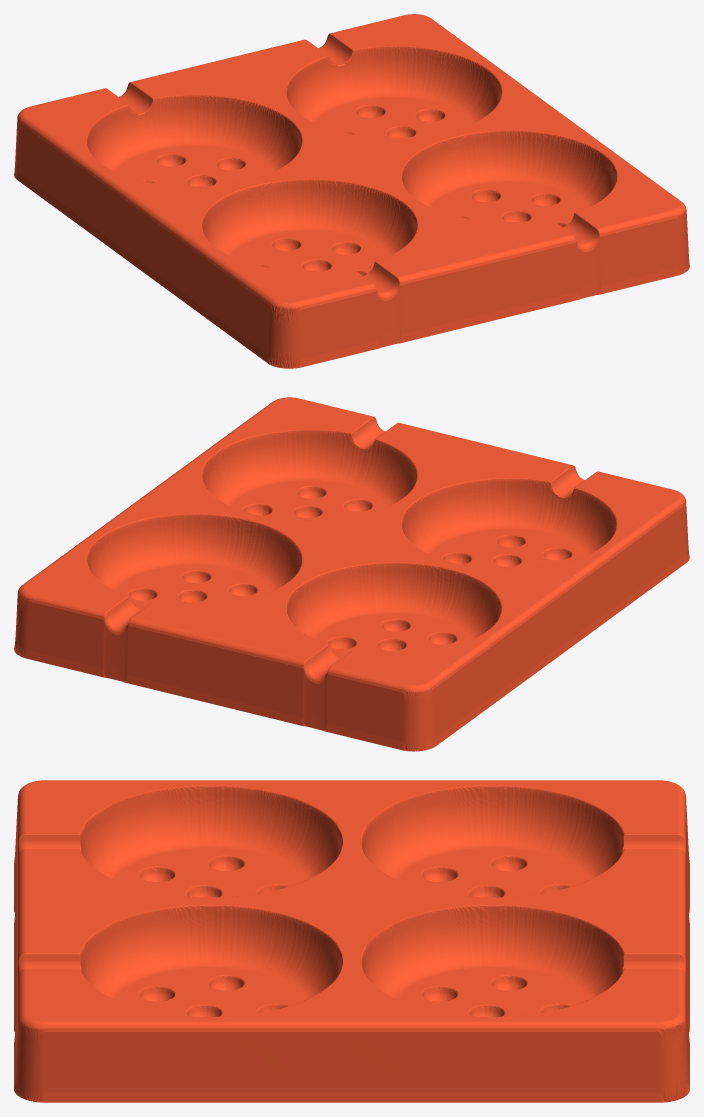
File: mold.glb
3 renders of one model, top to bottom at view 1: azimuth 30°, elevation 25°; view 2: azimuth 150°, elevation 25°; view 3: azimuth 270°, elevation 25°, orthographic. The views are drawn at different scales.
Visible parts, largest first — view 1: geometry_0; view 2: geometry_0; view 3: geometry_0.
Boxes of the visible parts, x1,y1,x2,y2 form: geometry_0: (14, 14, 689, 368); geometry_0: (14, 397, 689, 751); geometry_0: (14, 780, 689, 1102).
Size of the model in its own units: 0.1726 by 0.0245 by 0.1968.
